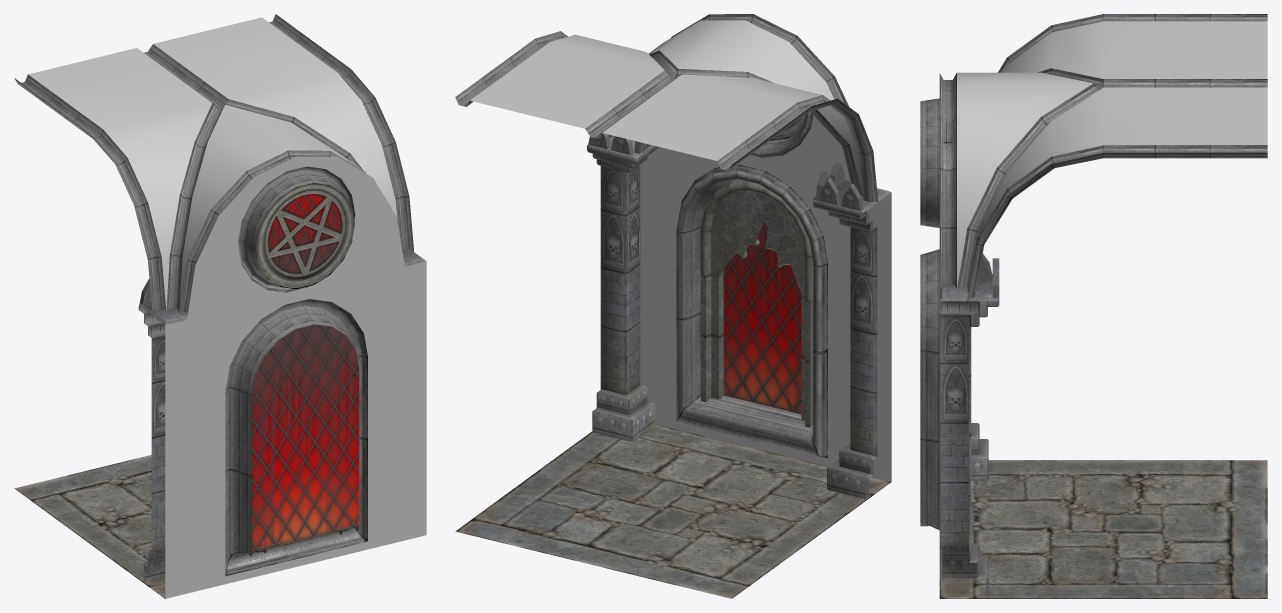
File: Wall_Window2.FBX
3 renders of one model, left to right at view 1: azimuth 30°, elevation 25°; view 2: azimuth 150°, elevation 25°; view 3: azimuth 270°, elevation 25°, orthographic. The views are drawn at different scales.
Visible parts, largest first — view 1: WallWindow_2; view 2: WallWindow_2; view 3: WallWindow_2.
Part boxes in pixels (bbox=[...]): WallWindow_2: bbox=[14, 14, 426, 598]; WallWindow_2: bbox=[455, 14, 891, 598]; WallWindow_2: bbox=[920, 14, 1267, 598].
Size of the model in its own units: 500 by 750 by 530.
